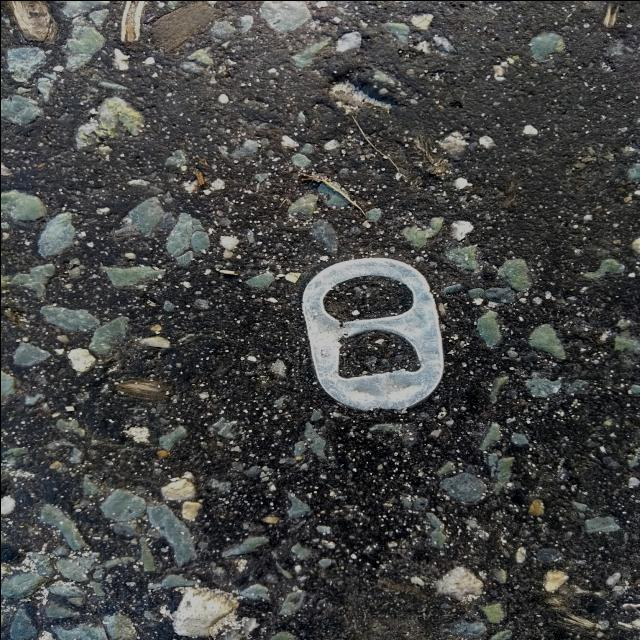Pop tab: (301, 256, 443, 410)
